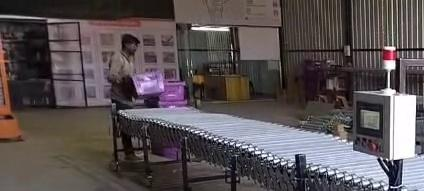box: (131, 72, 164, 95)
